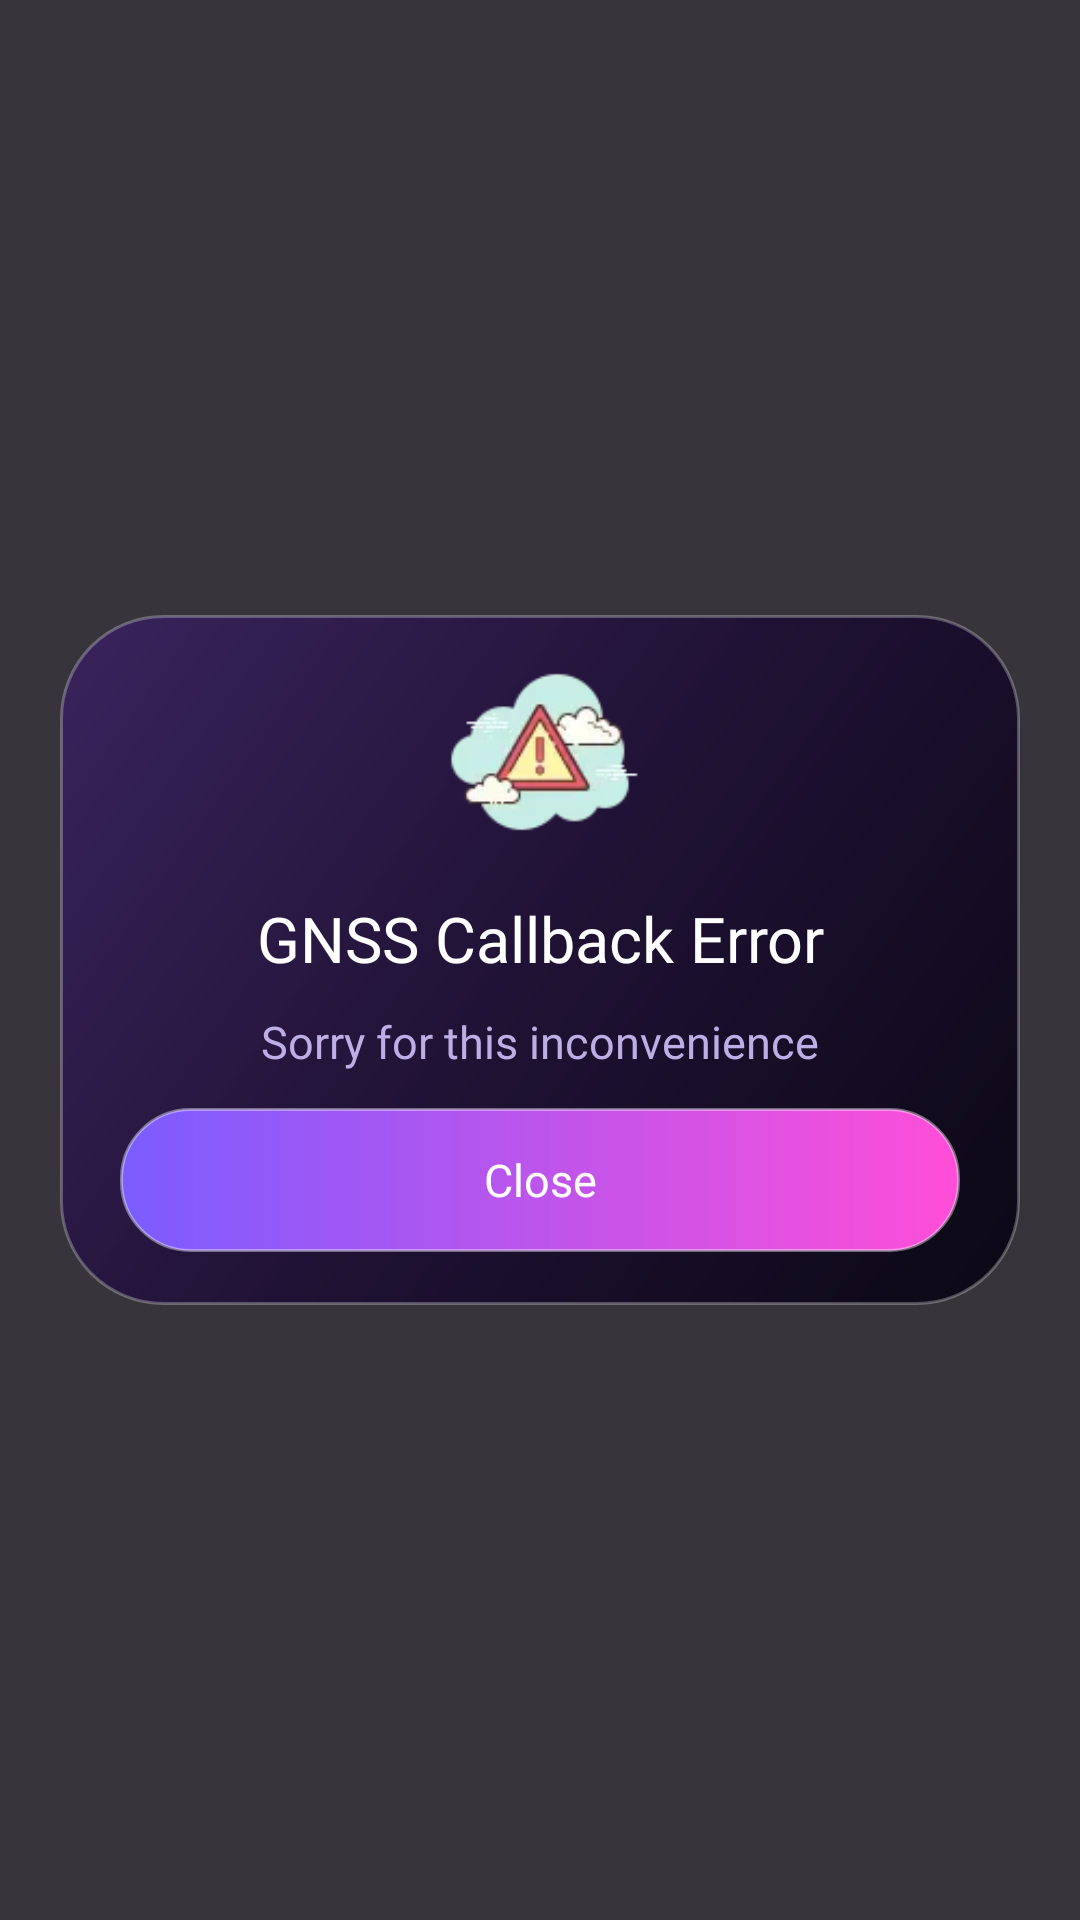

Icons on this 1080px x 1920px Android screen, each with its box as [left=x1, top=y1, right=x2, bottom=y2]:
error cloud: [left=451, top=673, right=638, bottom=831]
